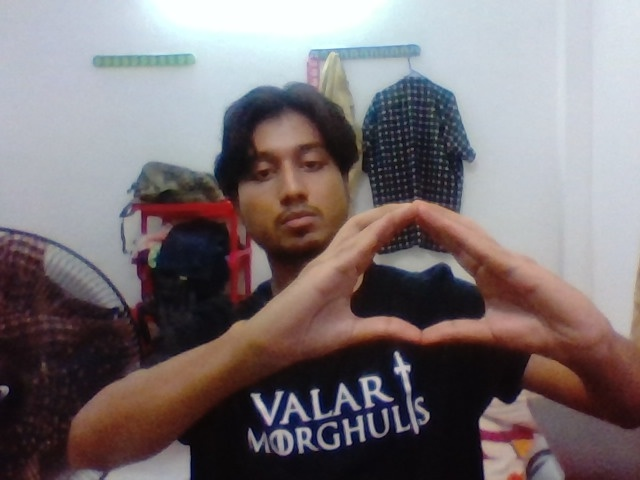O: (290, 180, 543, 374)
